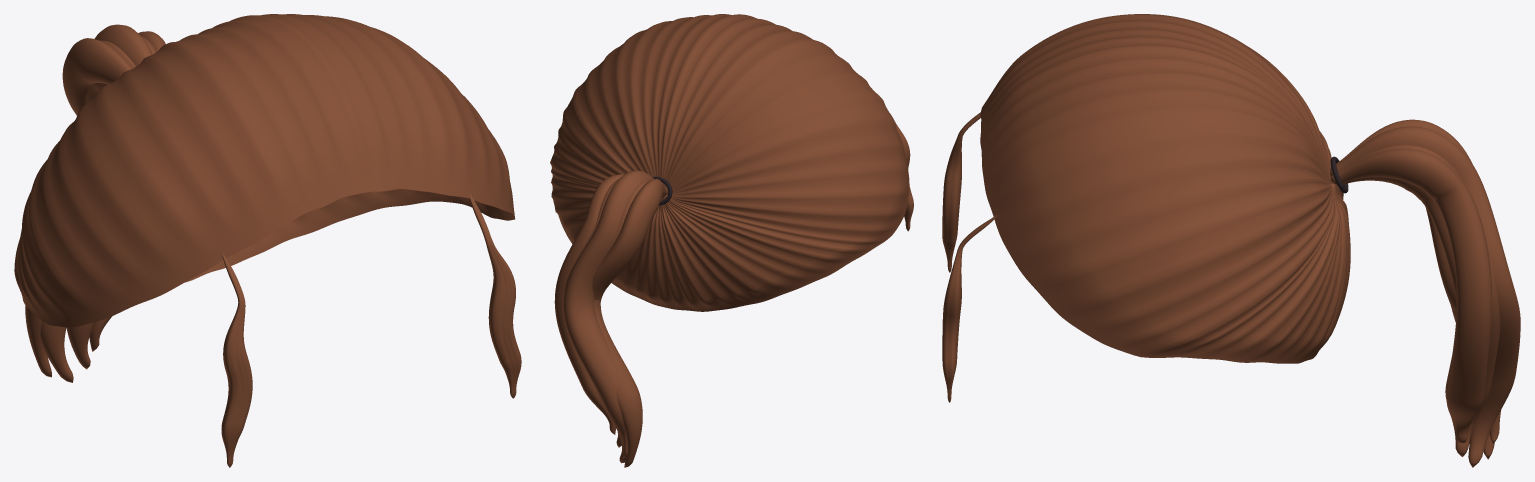
File: Feminine-ponytail-cap-hair.glb
3 views of the same model, side by side, from view 1: azimuth 30°, elevation 25°; view 2: azimuth 150°, elevation 25°; view 3: azimuth 270°, elevation 25° (orthographic). The views are drawn at different scales.
Parts seen in each view (by area): view 1: Hair / swept roots220, Hair / adjustable front216 -1, Hair / adjustable front216 1, Hair / rounded tail220 0, Hair / rounded tail220 2, Hair / rounded tail220 1, Hair / rounded tail220 3, Hair / rounded tail220 4; view 2: Hair / swept roots220, Hair / rounded tail220 2, Hair / rounded tail220 0, Hair / rounded tail220 4, Hair / rounded tail220 1, Hair / adjustable front216 -1; view 3: Hair / swept roots220, Hair / rounded tail220 4, Hair / rounded tail220 2, Hair / rounded tail220 3, Hair / adjustable front216 1, Hair / adjustable front216 -1, Hair / rounded tail220 0, Hair / rounded tail220 1.
Boxes of the visible parts, <box> form: Hair / swept roots220: <box>14,14,515,327</box>; Hair / adjustable front216 -1: <box>221,254,252,467</box>; Hair / adjustable front216 1: <box>469,193,521,398</box>; Hair / rounded tail220 0: <box>62,38,132,115</box>; Hair / rounded tail220 2: <box>40,24,152,382</box>; Hair / rounded tail220 1: <box>25,40,135,377</box>; Hair / rounded tail220 3: <box>66,36,155,369</box>; Hair / rounded tail220 4: <box>89,31,165,351</box>; Hair / swept roots220: <box>550,14,909,311</box>; Hair / rounded tail220 2: <box>563,170,653,463</box>; Hair / rounded tail220 0: <box>592,179,668,458</box>; Hair / rounded tail220 4: <box>554,174,623,434</box>; Hair / rounded tail220 1: <box>594,180,664,467</box>; Hair / adjustable front216 -1: <box>889,113,913,231</box>; Hair / swept roots220: <box>980,14,1350,363</box>; Hair / rounded tail220 4: <box>1330,148,1491,444</box>; Hair / rounded tail220 2: <box>1330,126,1520,467</box>; Hair / rounded tail220 3: <box>1331,145,1500,456</box>; Hair / adjustable front216 1: <box>942,215,997,402</box>; Hair / adjustable front216 -1: <box>942,112,980,272</box>; Hair / rounded tail220 0: <box>1329,119,1500,444</box>; Hair / rounded tail220 1: <box>1425,207,1494,459</box>.
Size of the model in its own units: 0.9754 by 0.9773 by 1.16.
